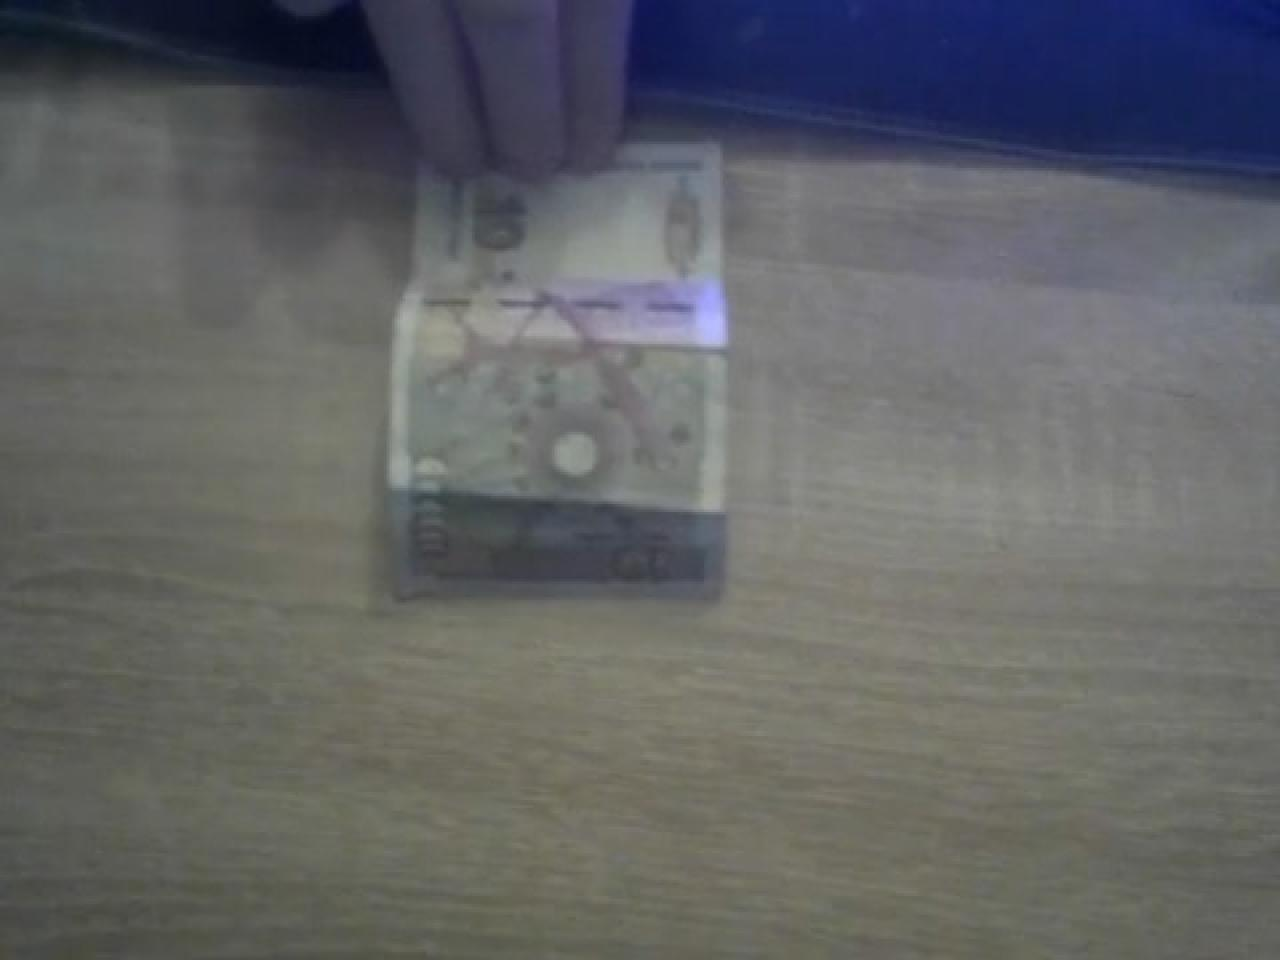10leva: (381, 141, 734, 603)
